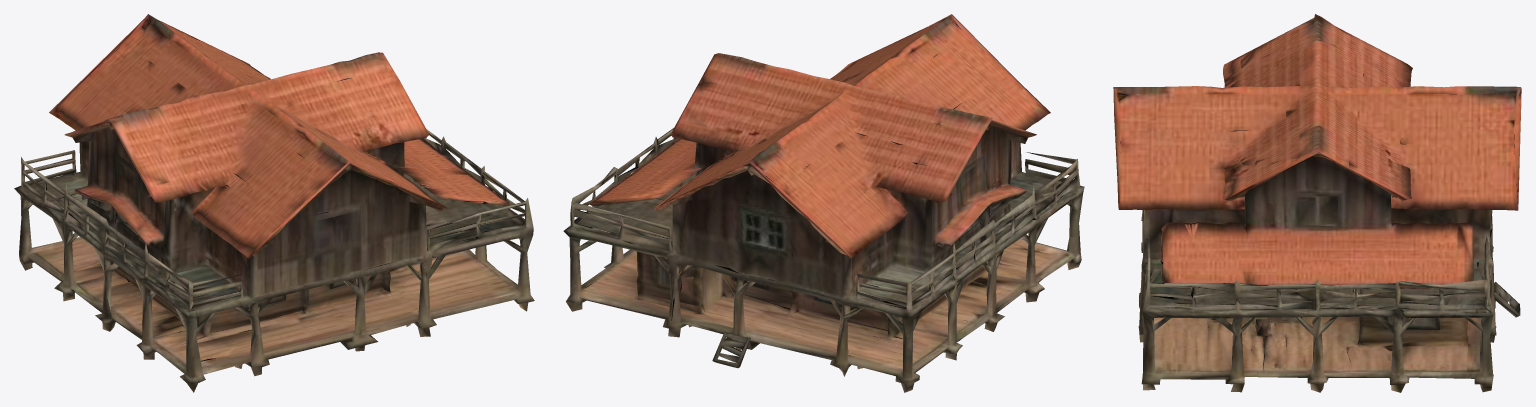
The model's file is bq_rural_house.bk.glb.
3 renders of one model, left to right at view 1: azimuth 30°, elevation 25°; view 2: azimuth 150°, elevation 25°; view 3: azimuth 270°, elevation 25°, orthographic.
Parts seen in each view (by area): view 1: lo; view 2: lo; view 3: lo.
Part boxes in pixels (box(x1,y1,x2,y2)): lo: box(14, 14, 534, 392); lo: box(563, 14, 1084, 392); lo: box(1113, 14, 1521, 392).
Bounding box in the file's own units: 1.9 × 1.11 × 1.89.
1 material, 1 textured.
